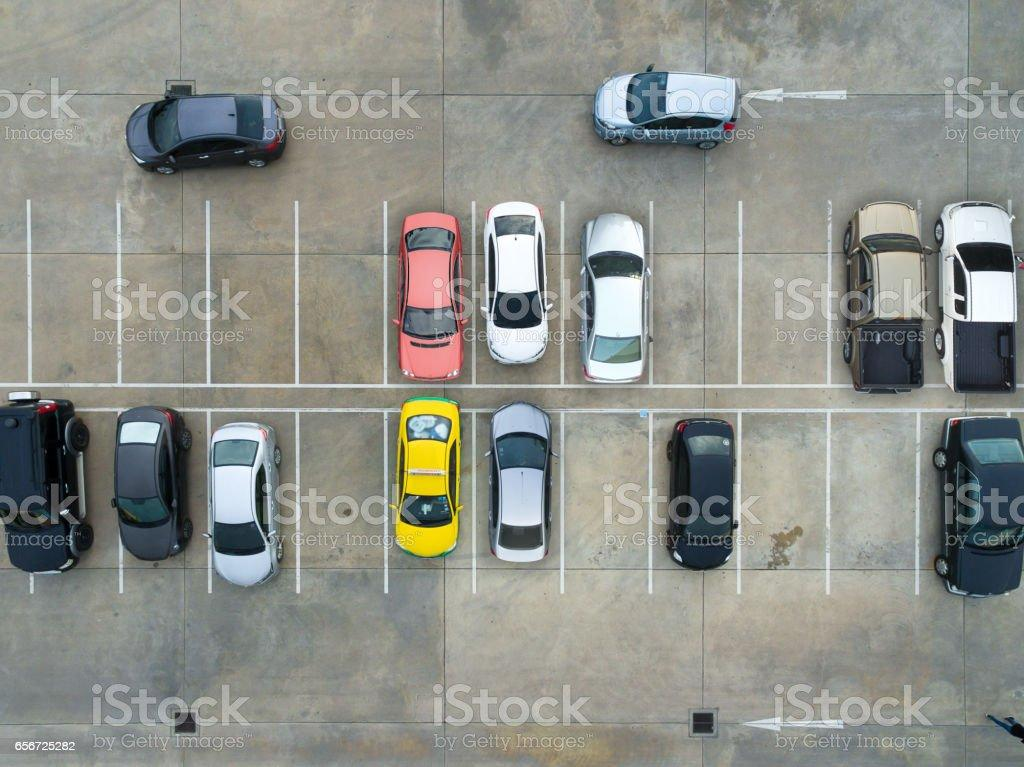Car: (1, 374, 107, 578), (819, 196, 919, 389), (932, 412, 1024, 610), (207, 402, 295, 593), (482, 390, 566, 572), (124, 87, 298, 174), (573, 208, 662, 377), (109, 399, 199, 564), (591, 60, 743, 156), (477, 196, 556, 375), (389, 385, 467, 565), (662, 404, 743, 577), (938, 198, 1012, 387), (393, 200, 465, 385)
Empty: (733, 206, 832, 380), (121, 195, 215, 378), (29, 195, 122, 376), (296, 414, 386, 584), (841, 422, 923, 606), (739, 410, 816, 594), (294, 210, 382, 369), (662, 207, 741, 380), (571, 417, 649, 585), (209, 206, 289, 369)
